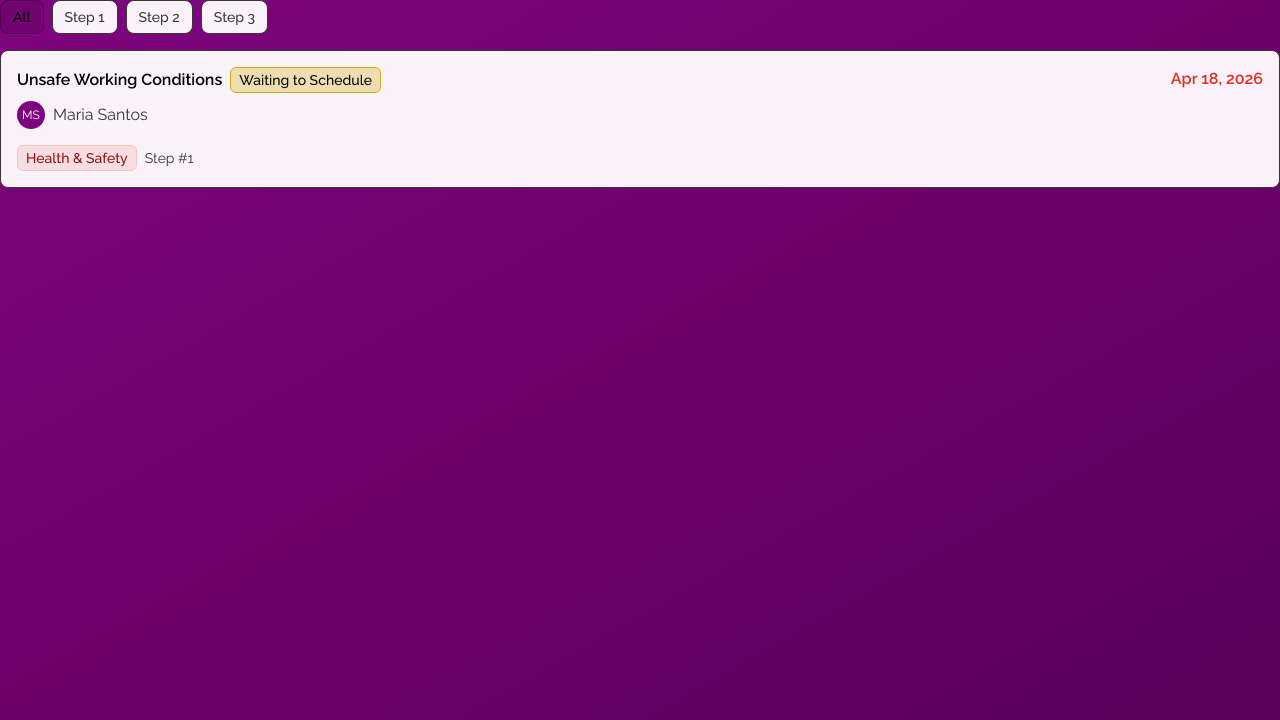
it: StepFilterView › shows 'No grievances at this step' when the filtered step has no open grievances
This screenshot has width=1280, height=720.
Click the button "Step 2".
click(159, 17)  # box [126,0,193,34]
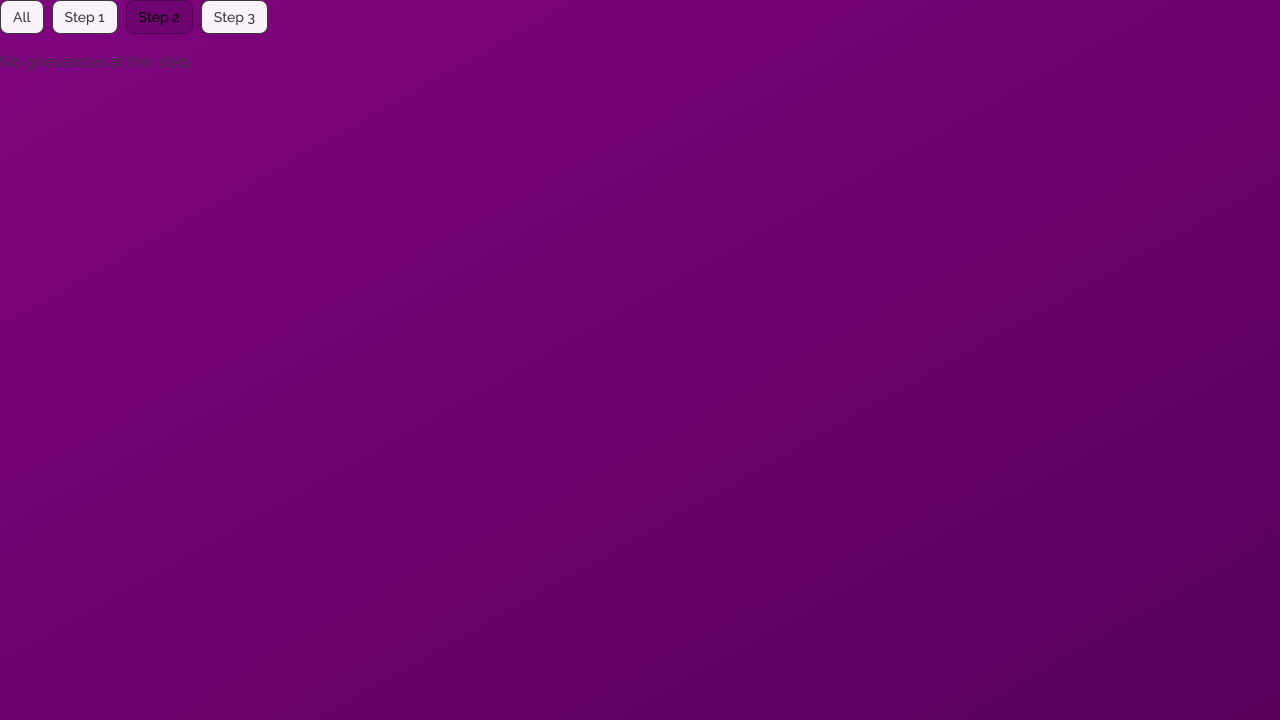
Now the text "No grievances at this step." is shown, box [0,52,194,71]
